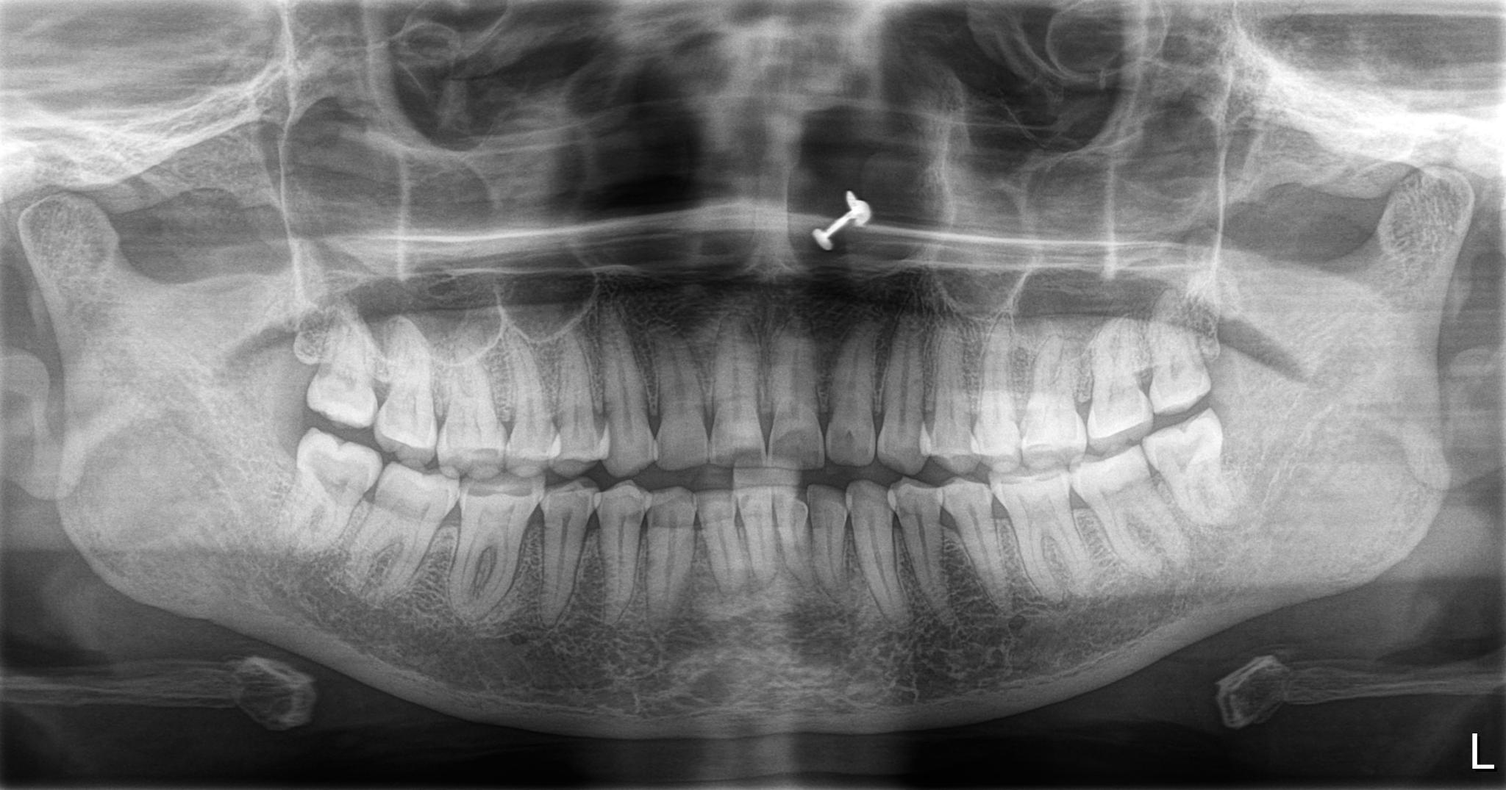Dental Caries: (1166, 355, 1196, 380)
Impacted Third Molar: (1146, 424, 1233, 540)
